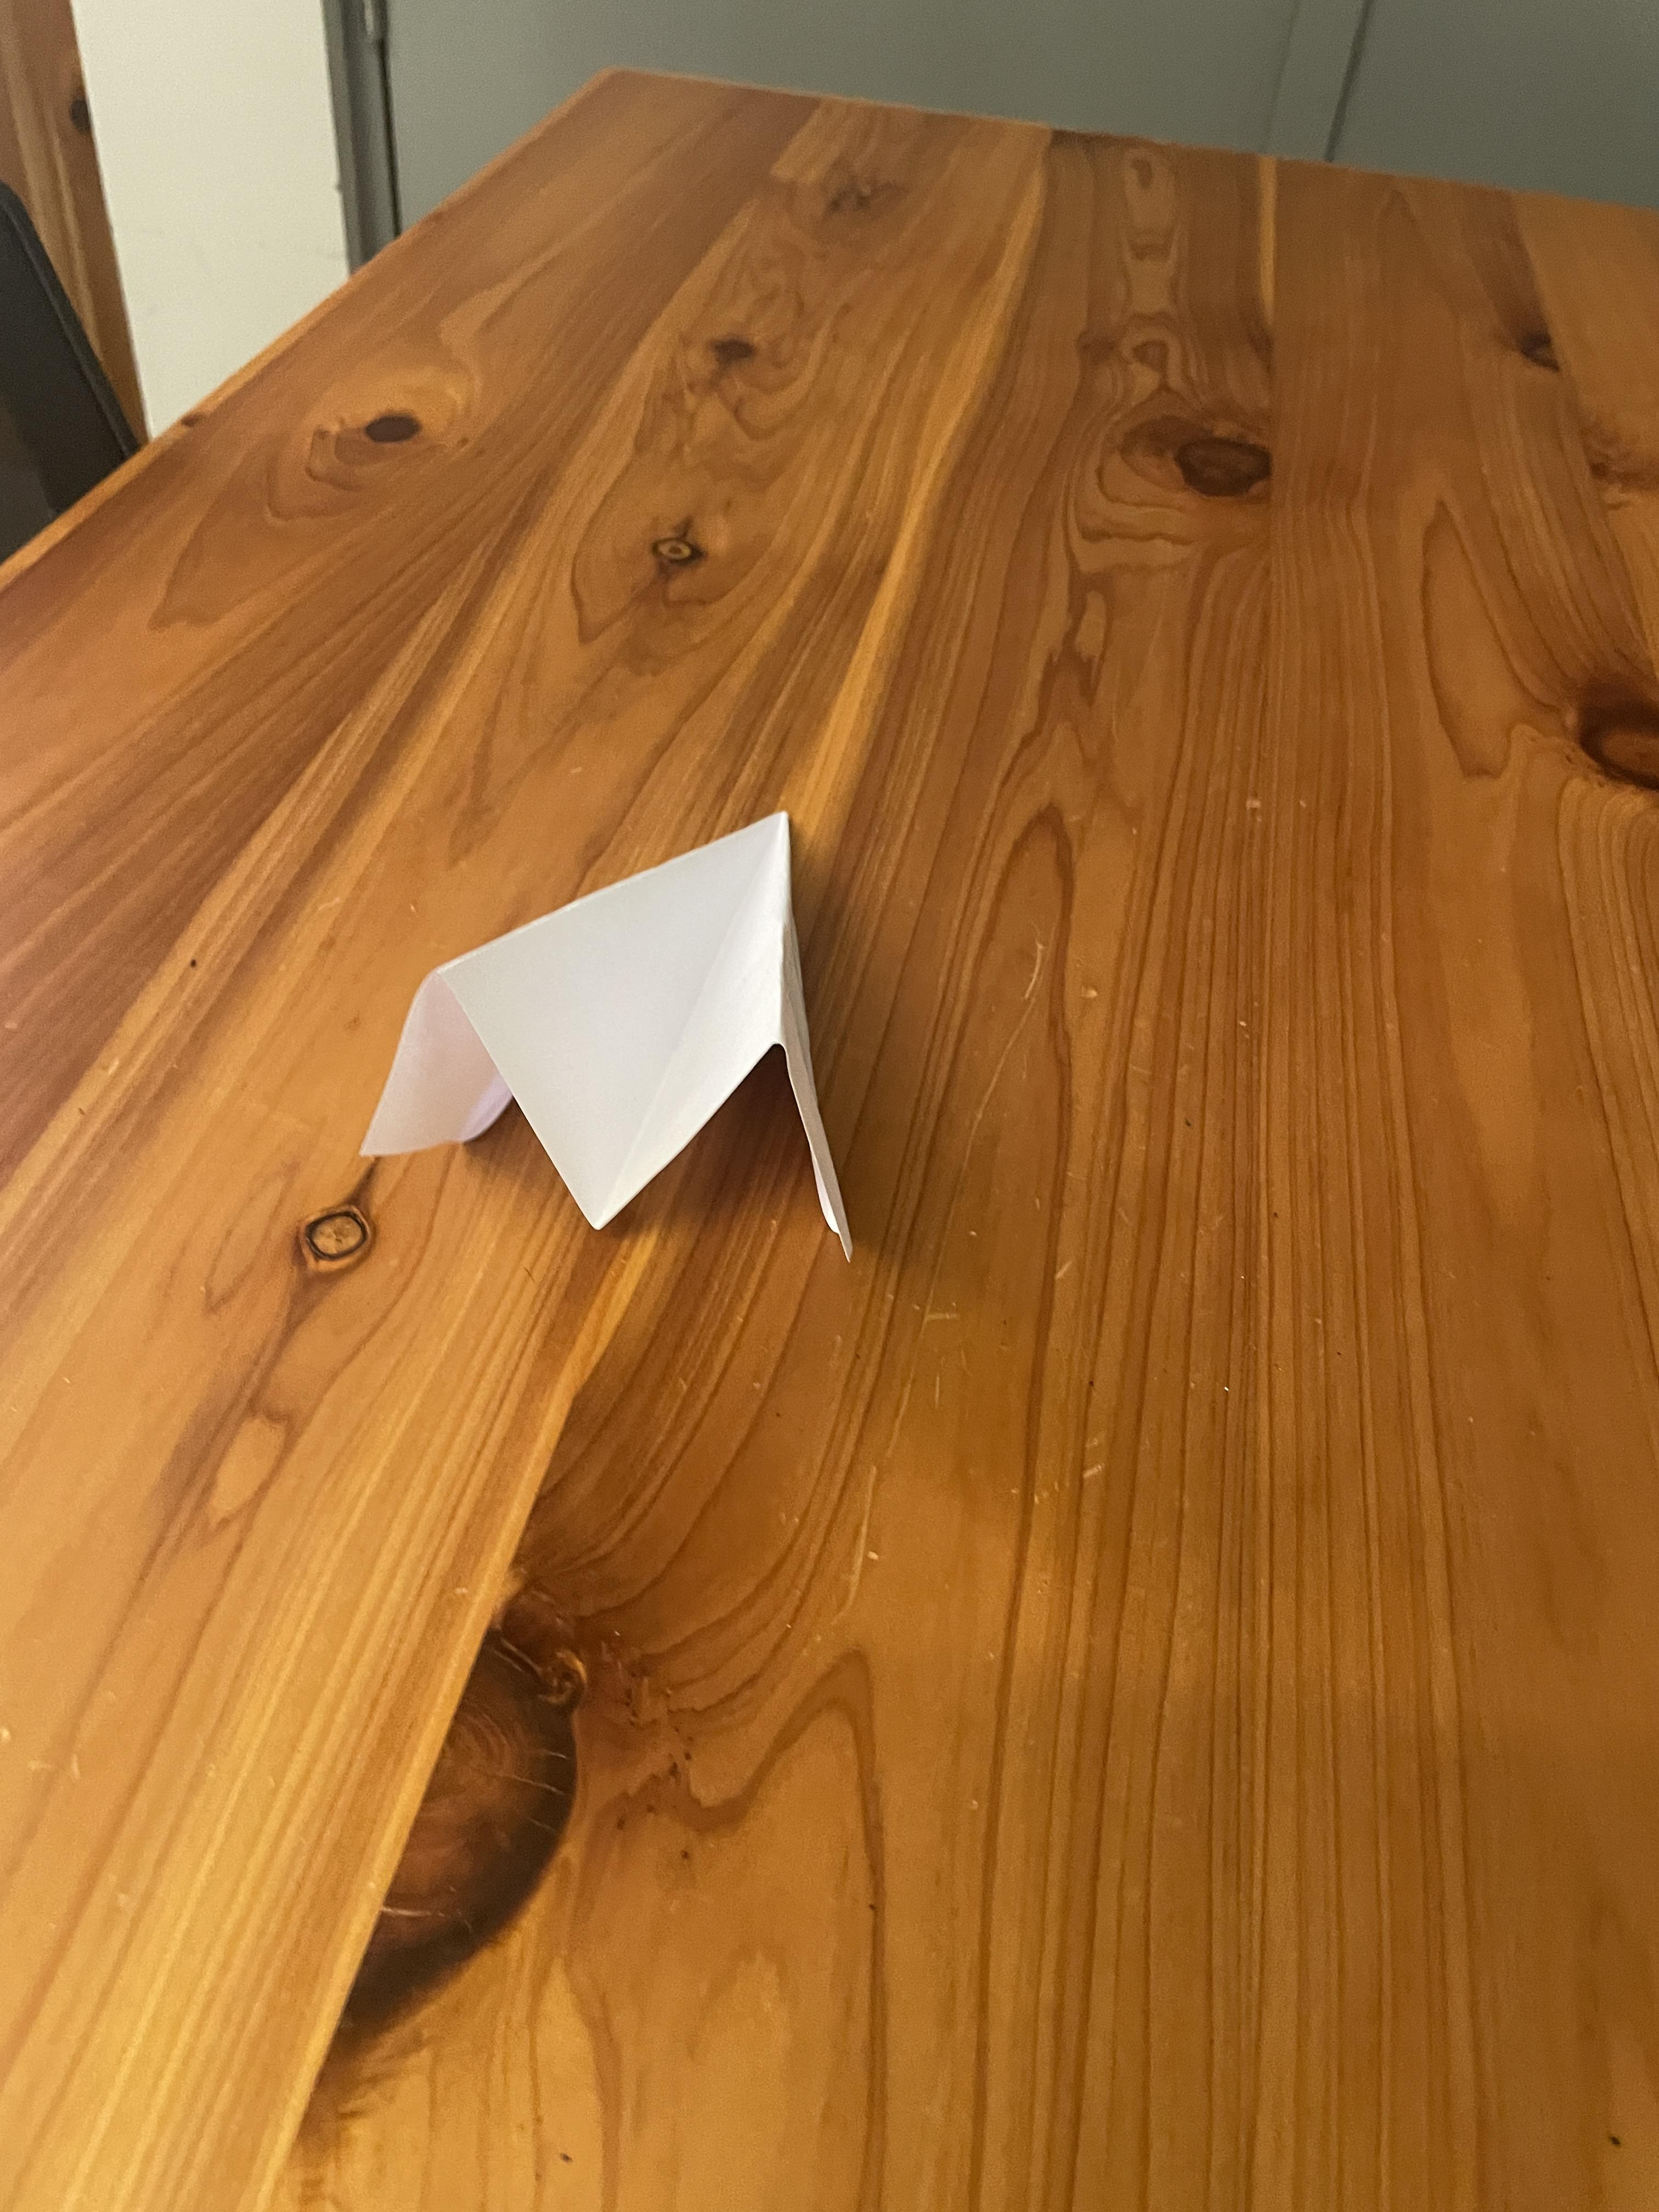shape_3: (225, 637, 1000, 1388)
